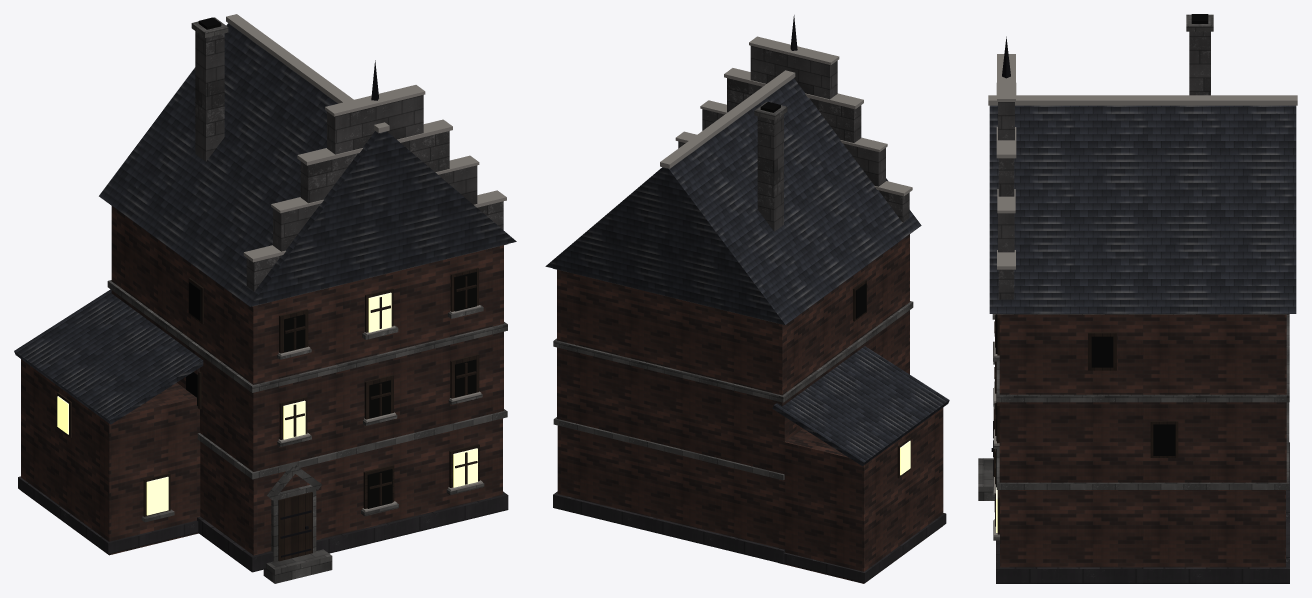
Rendered from CasaB23.gltf.
The picture shows the model from 3 angles, left to right: view 1: azimuth 30°, elevation 25°; view 2: azimuth 150°, elevation 25°; view 3: azimuth 270°, elevation 25°; orthographic projection. The views are drawn at different scales.
Visible parts, largest first — view 1: CasaB23; view 2: CasaB23; view 3: CasaB23.
Part boxes in pixels (left/top/right/bottom): CasaB23: left=14, top=14, right=516, bottom=583; CasaB23: left=545, top=15, right=949, bottom=583; CasaB23: left=978, top=14, right=1297, bottom=583.
Size of the model in its own units: 13.61 by 17.92 by 10.53.
Materials: 10 (6 with a texture image).
